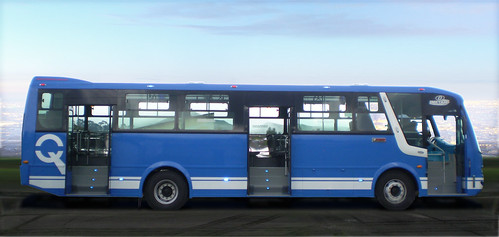bus: (19, 77, 484, 211)
